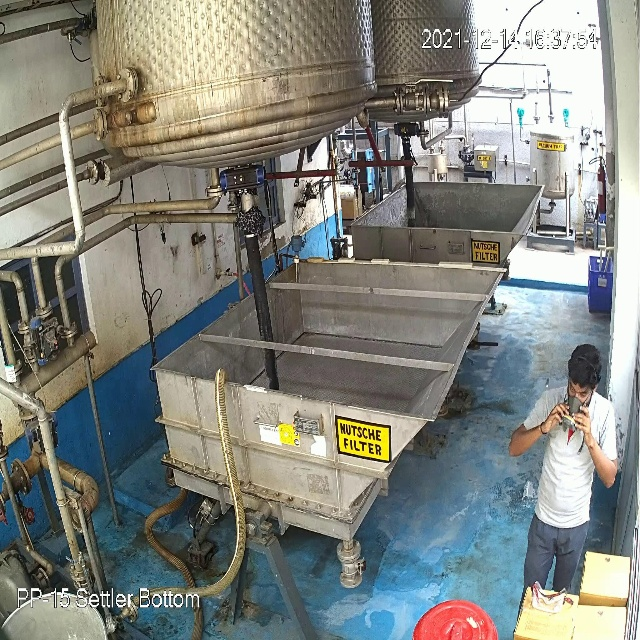Mascara: (561, 394, 587, 432)
Sin_gafas: (556, 375, 599, 405)
